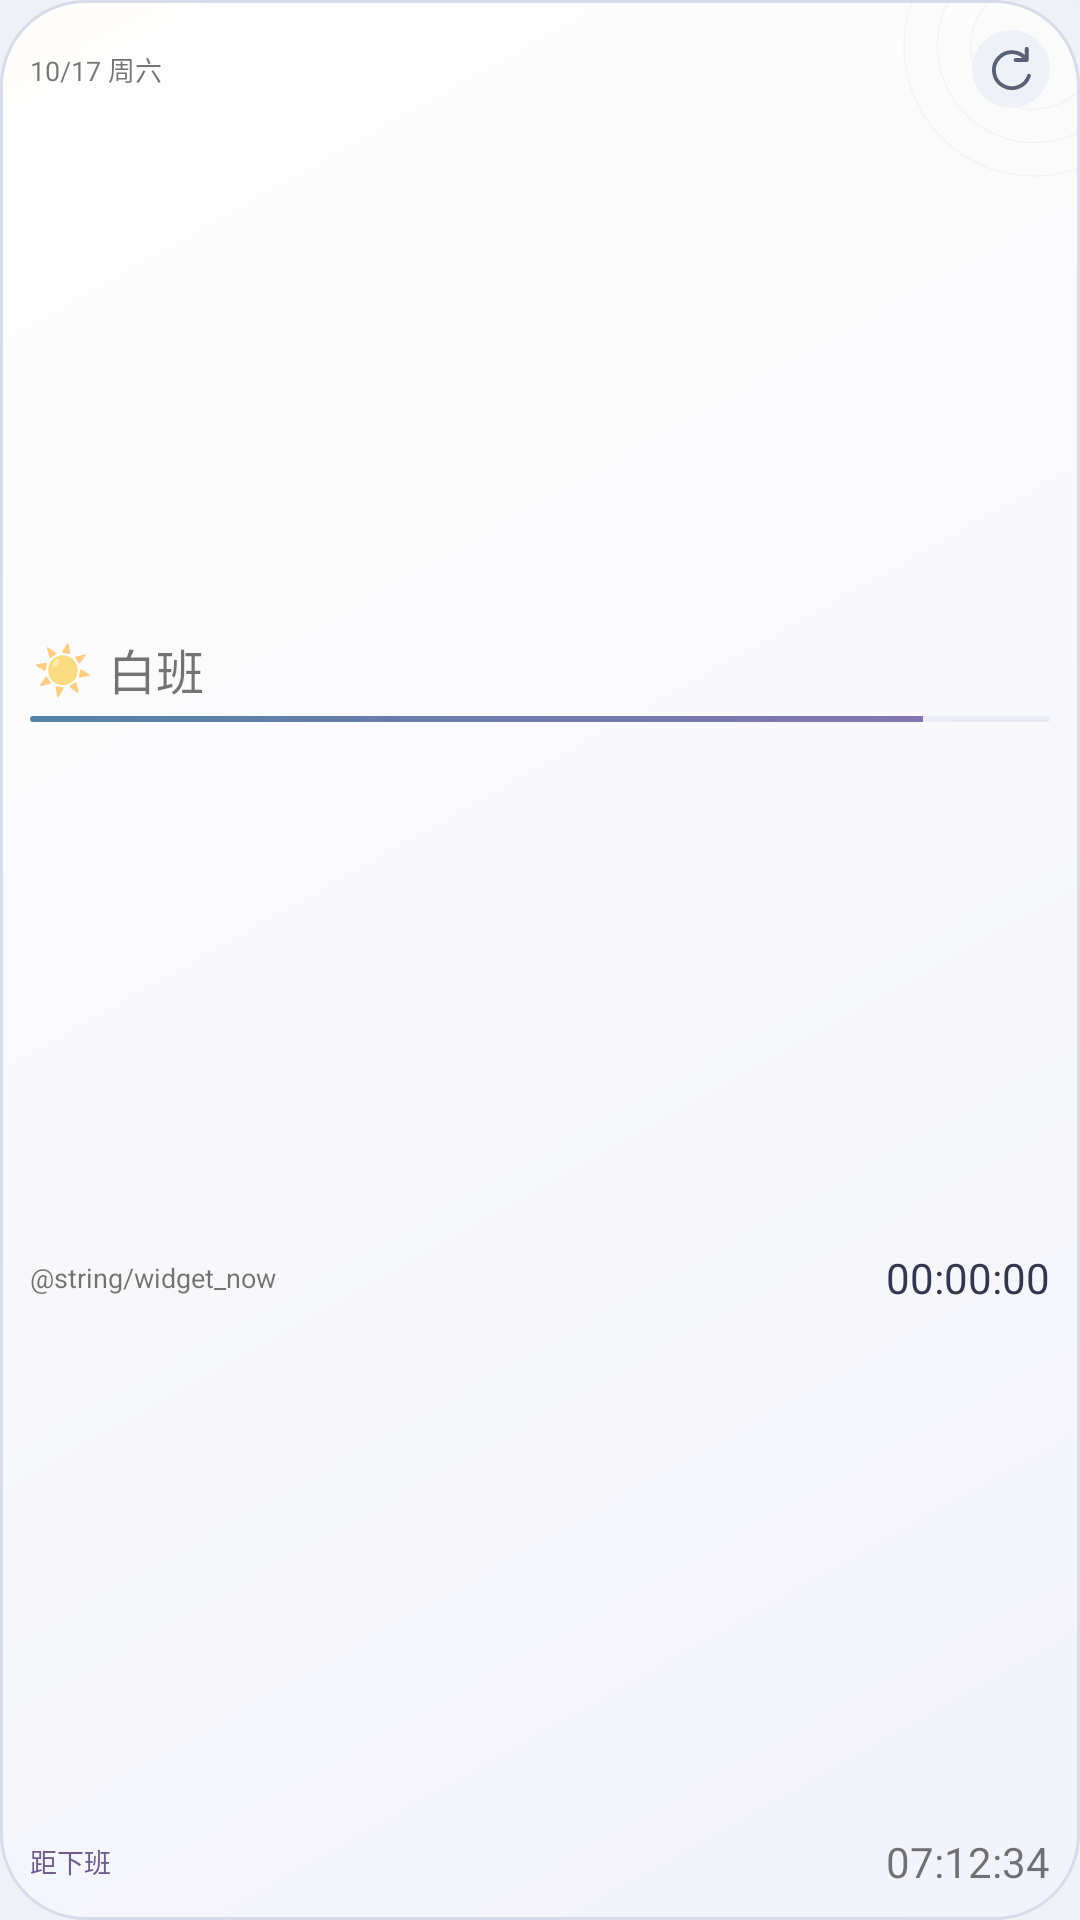

Named icons in this screenshot (1080px x 1920px) and their bounding boxes, (x1, y1, x2, y2):
刷新班次信息: (972, 30, 1050, 108)
